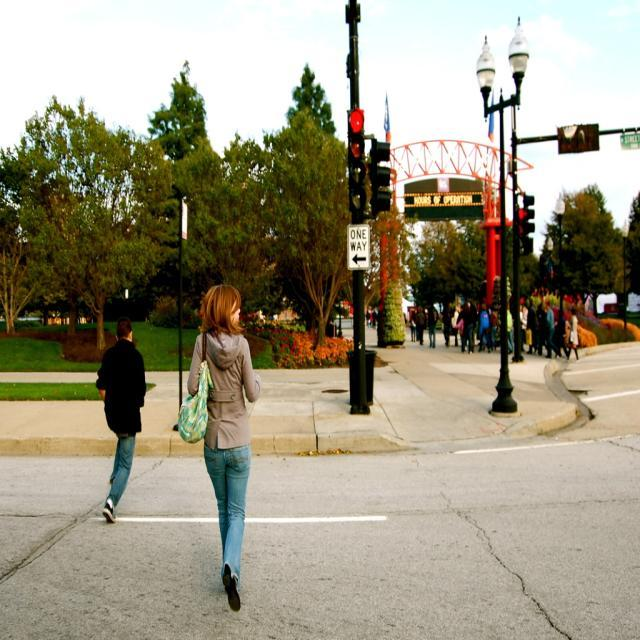off traffic light: (370, 134, 392, 220), (524, 191, 534, 254)
traffic light: (347, 109, 365, 213), (516, 207, 526, 239)
